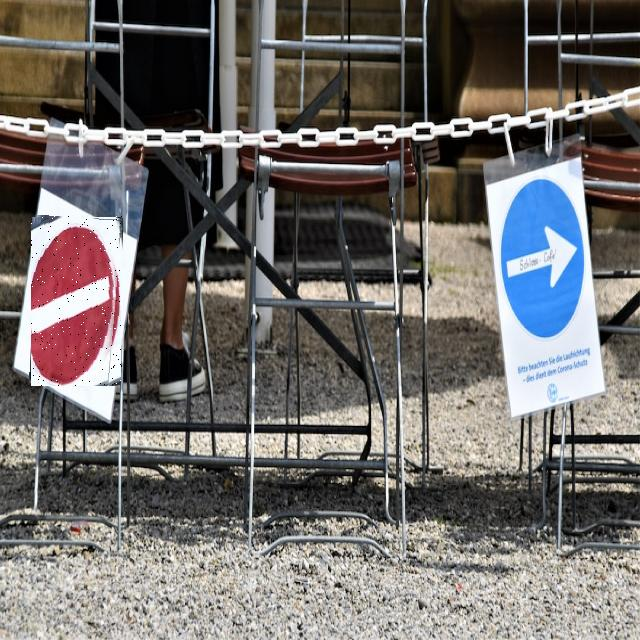no entry: (31, 216, 122, 386)
